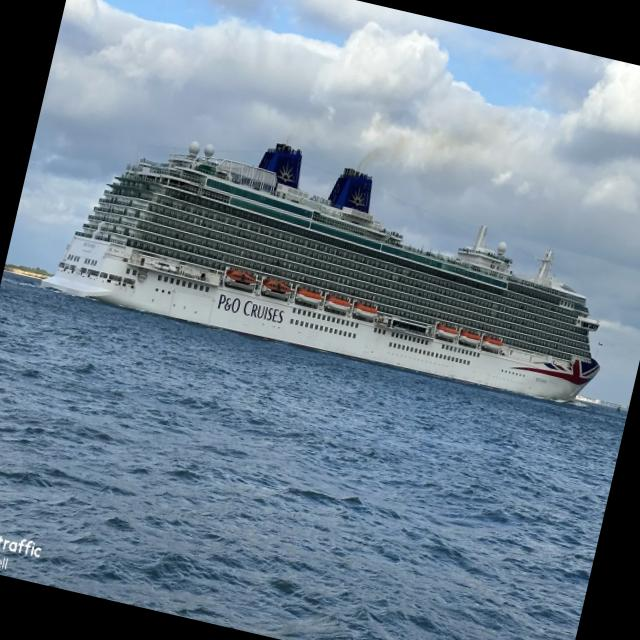Cruise: (41, 142, 600, 402)
